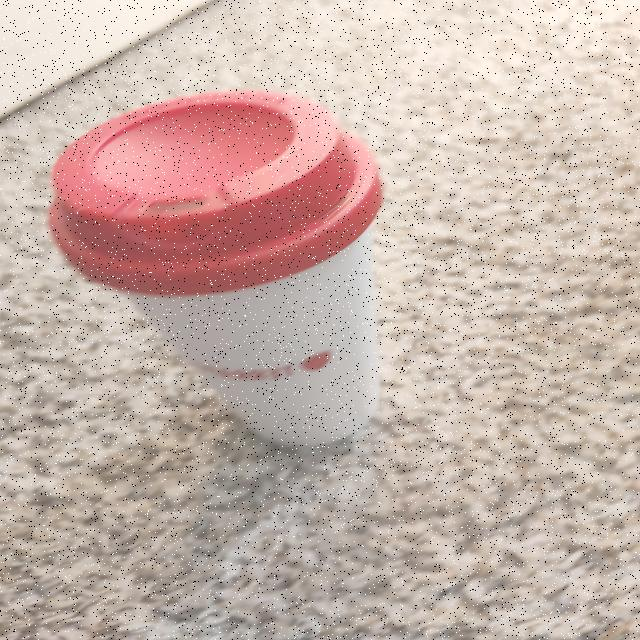mug: (51, 101, 370, 452)
